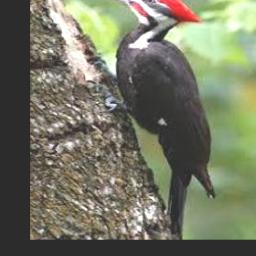Woodpecker: (94, 0, 215, 239)
